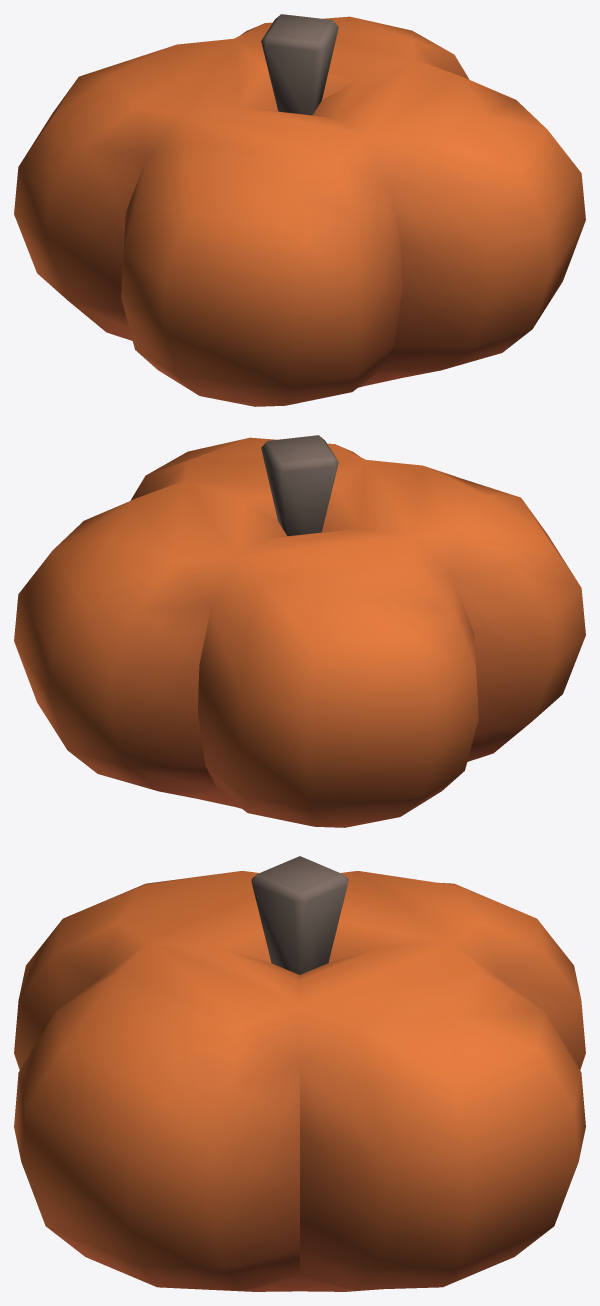
File: pumpkin_orange.glb
3 views of the same model, one above another, from view 1: azimuth 30°, elevation 25°; view 2: azimuth 150°, elevation 25°; view 3: azimuth 270°, elevation 25° (orthographic). The views are drawn at different scales.
Parts seen in each view (by area): view 1: pumpkin_orange; view 2: pumpkin_orange; view 3: pumpkin_orange.
Boxes of the visible parts, bbox=[...] form: pumpkin_orange: bbox=[14, 14, 585, 406]; pumpkin_orange: bbox=[14, 435, 585, 827]; pumpkin_orange: bbox=[14, 856, 585, 1291].
Size of the model in its own units: 1 by 0.7 by 1.
1 material, 1 textured.
